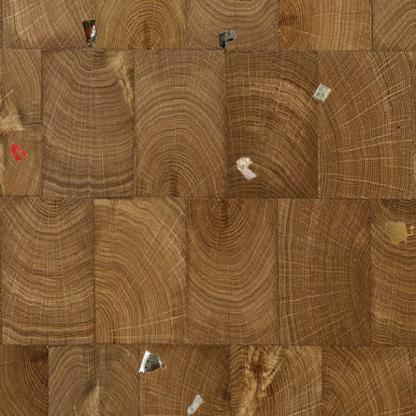dirty: (138, 349, 166, 373), (217, 24, 240, 53), (234, 156, 258, 182), (80, 18, 100, 48), (312, 81, 334, 104), (186, 394, 205, 416)
liquid: (384, 219, 416, 246), (9, 143, 31, 162)
